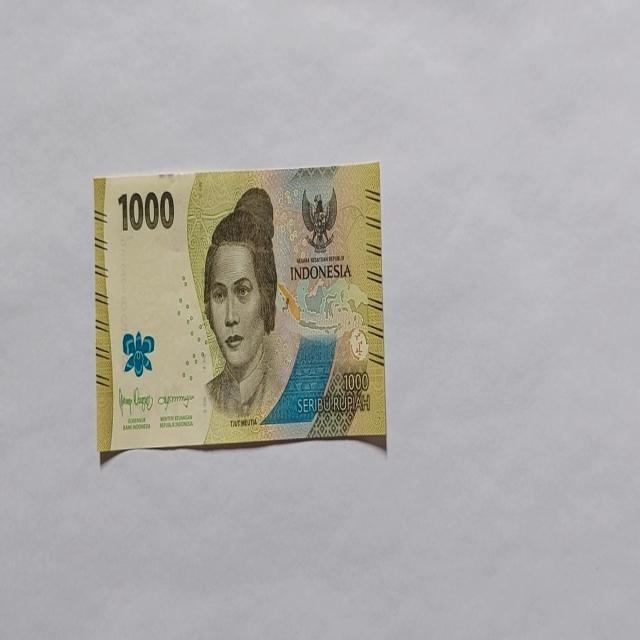seribu rupiah kertas: (92, 162, 386, 456)
